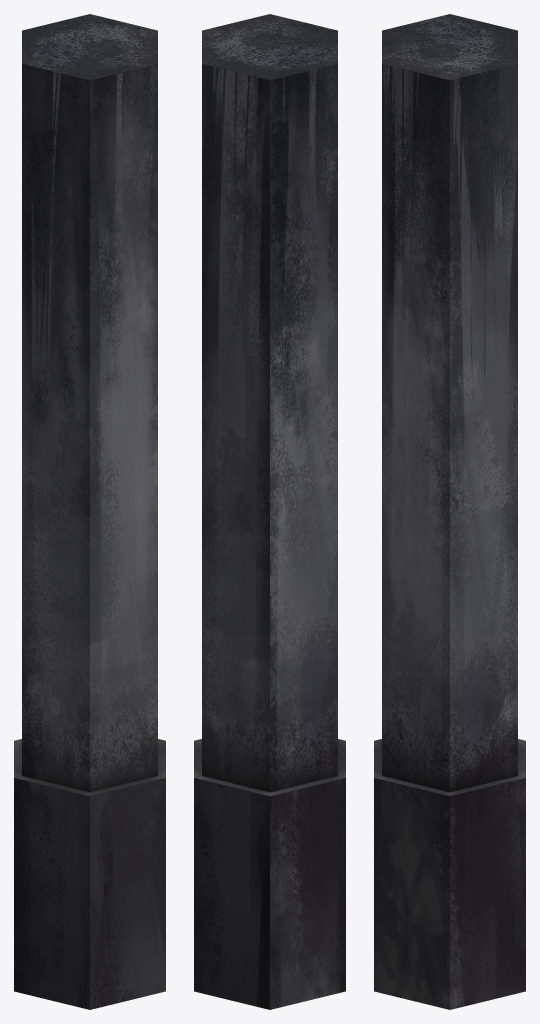
File: obstacle_pillar.fbx
3 renders of one model, left to right at view 1: azimuth 30°, elevation 25°; view 2: azimuth 150°, elevation 25°; view 3: azimuth 270°, elevation 25°, orthographic.
Parts seen in each view (by area): view 1: obstacle_pillar; view 2: obstacle_pillar; view 3: obstacle_pillar.
Part boxes in pixels (<box>): obstacle_pillar: <box>14,14,165,1009</box>; obstacle_pillar: <box>194,14,345,1009</box>; obstacle_pillar: <box>374,14,525,1009</box>.
Bounding box in the file's own units: 2.23 × 13 × 1.93.
